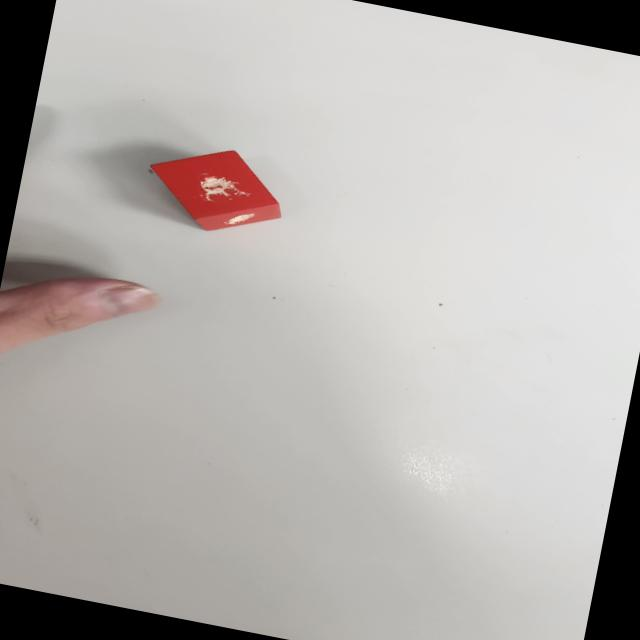broken: (140, 135, 292, 245)
